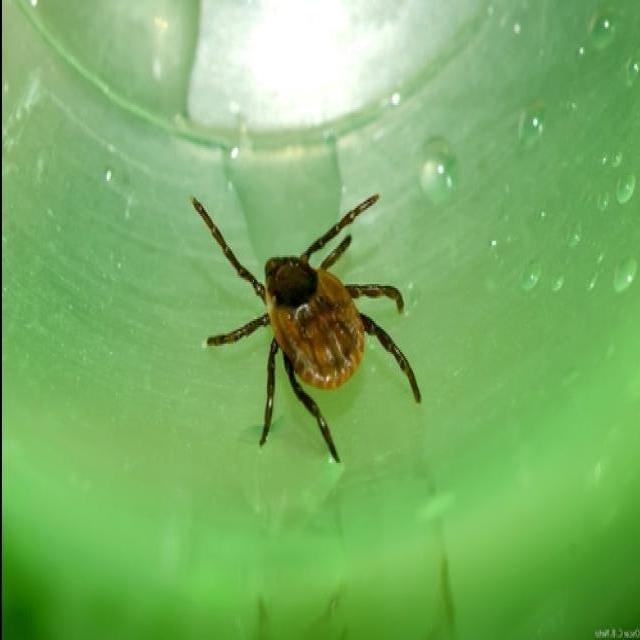Rhipicephalus Sanguineus-F: (192, 198, 417, 463)
